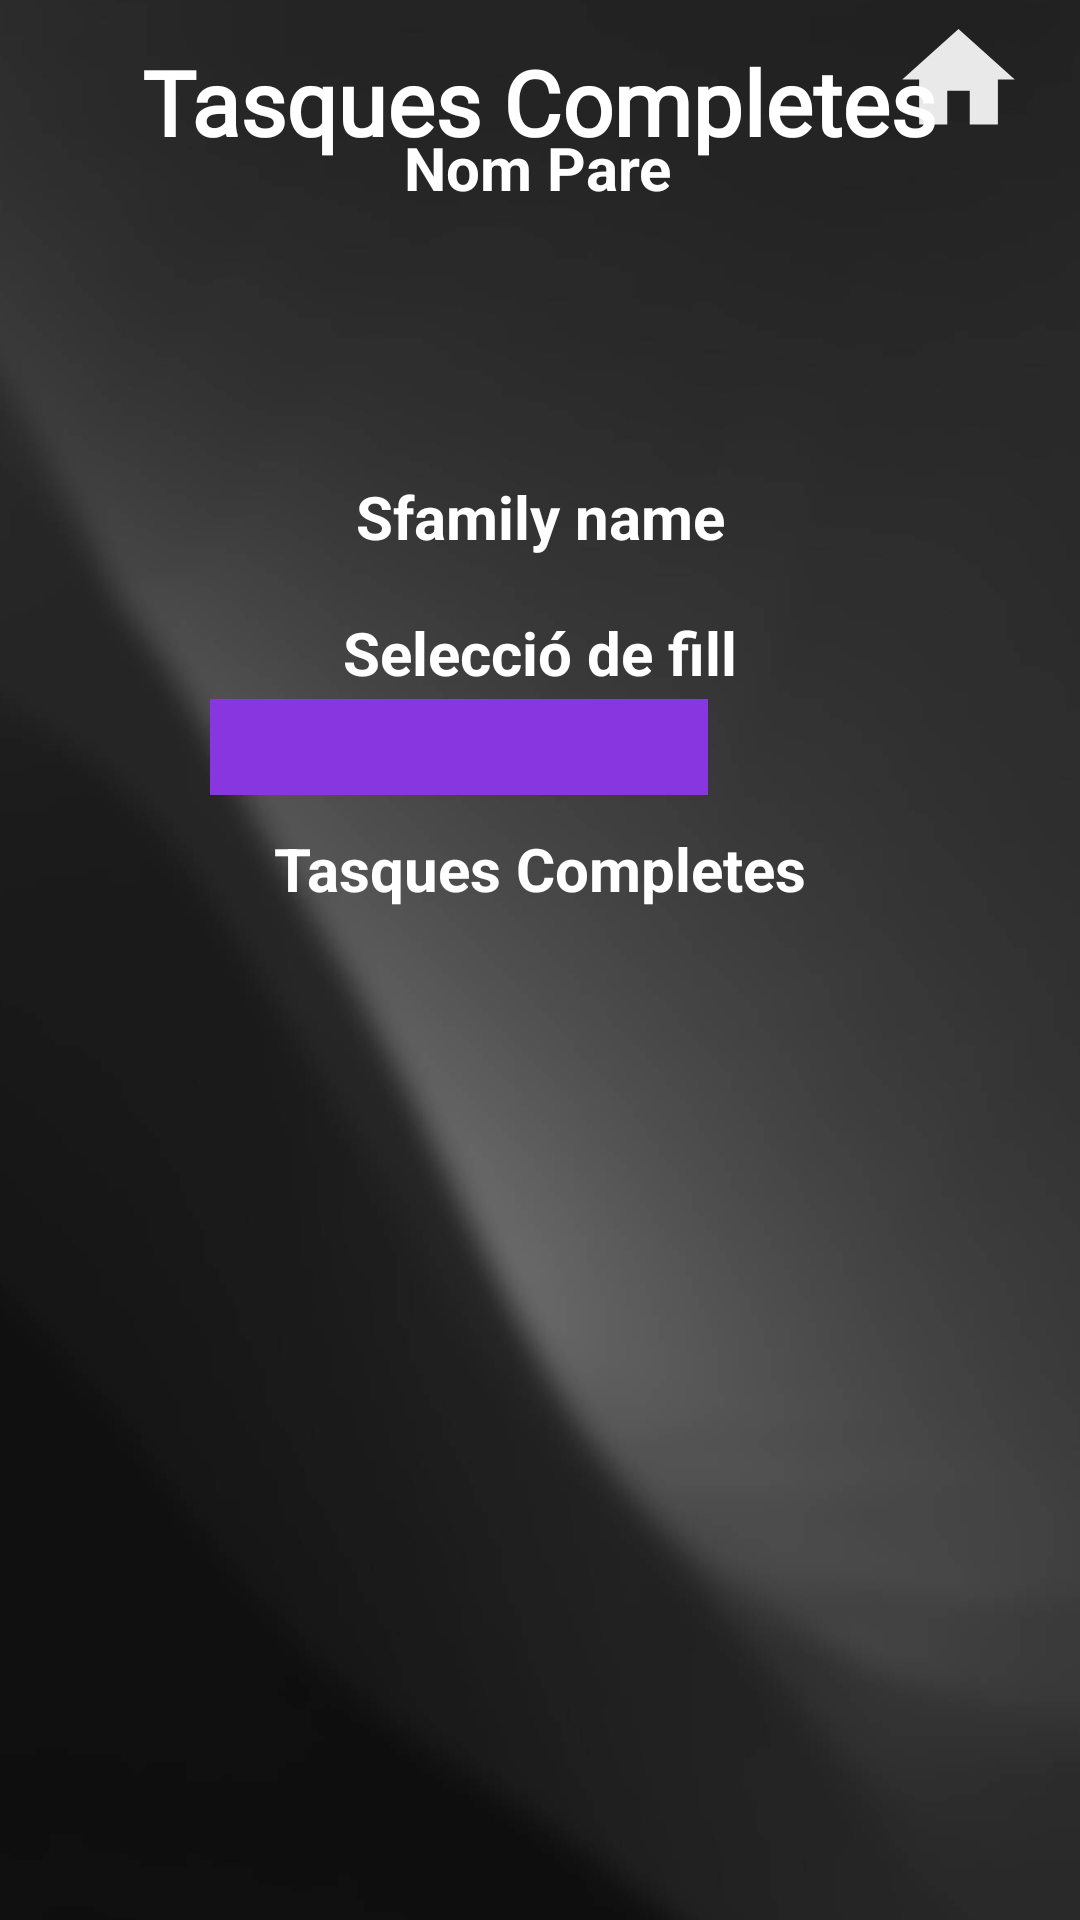

Where to tap for icons on this 1080 × 1920 app screen, as (x,y):
home: (954,83)
